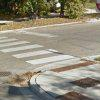Crosswalk: (2, 31, 74, 79)
